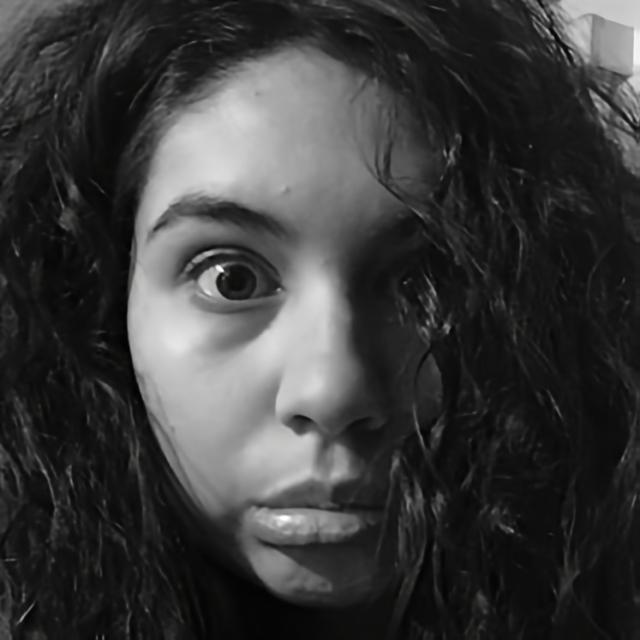surprise: (124, 45, 470, 608)
